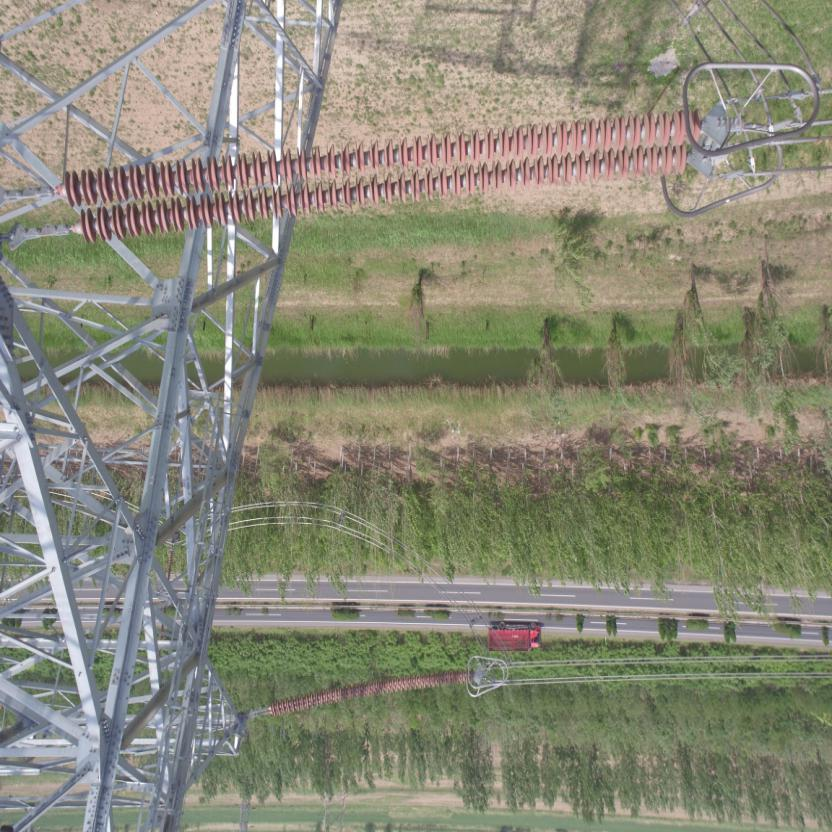insulator: (31, 102, 714, 252), (259, 668, 479, 726)
